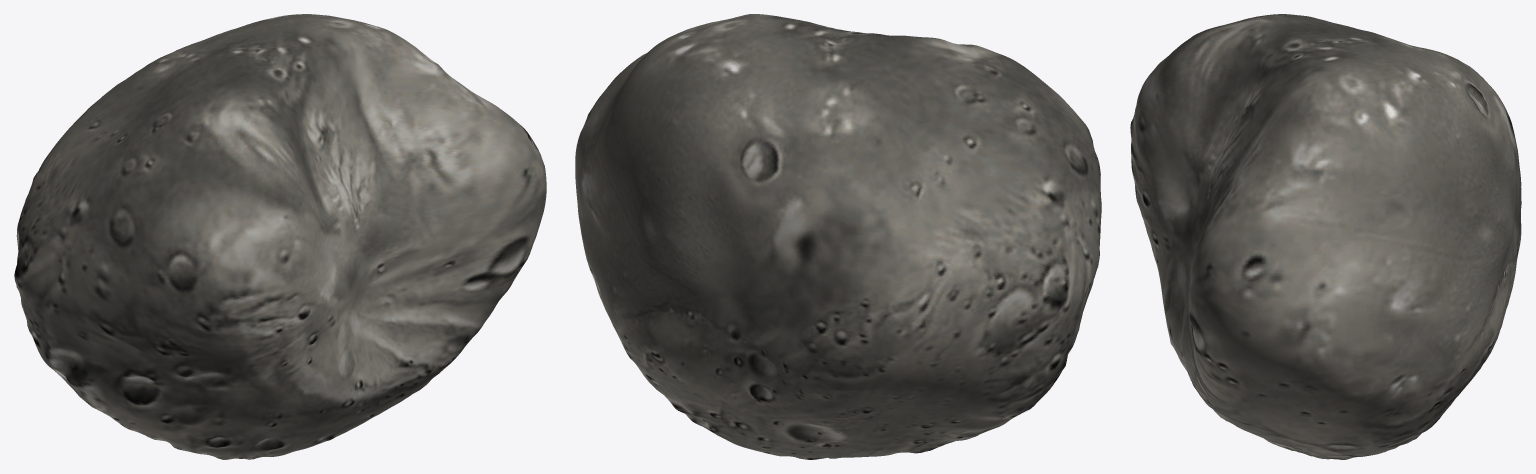
Rendered from Deimos.obj.
3 renders of one model, left to right at view 1: azimuth 30°, elevation 25°; view 2: azimuth 150°, elevation 25°; view 3: azimuth 270°, elevation 25°, orthographic. The views are drawn at different scales.
Visible parts, largest first — view 1: DeimosMesh; view 2: DeimosMesh; view 3: DeimosMesh.
Boxes of the visible parts, x1=… form: DeimosMesh: x1=14, y1=14, x2=546, y2=459; DeimosMesh: x1=575, y1=14, x2=1101, y2=459; DeimosMesh: x1=1130, y1=14, x2=1521, y2=459.
Size of the model in its own units: 15.01 by 11.87 by 10.51.
